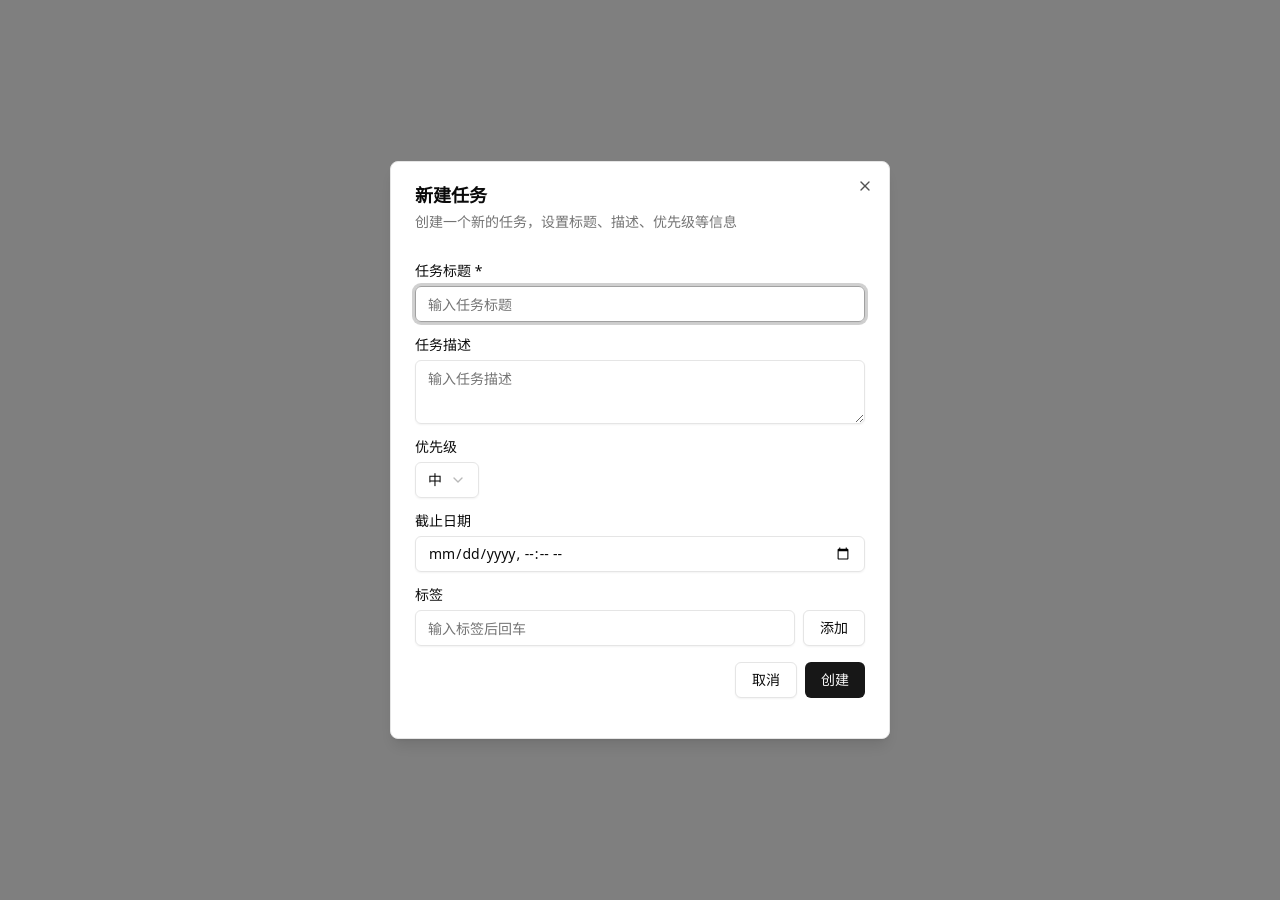
TaskCreateDialog › 应该验证必填字段
The width and height of the screenshot is (1280, 900).
不填写标题，直接提交
Click the button "创建": (835, 680) [805,662,865,698]
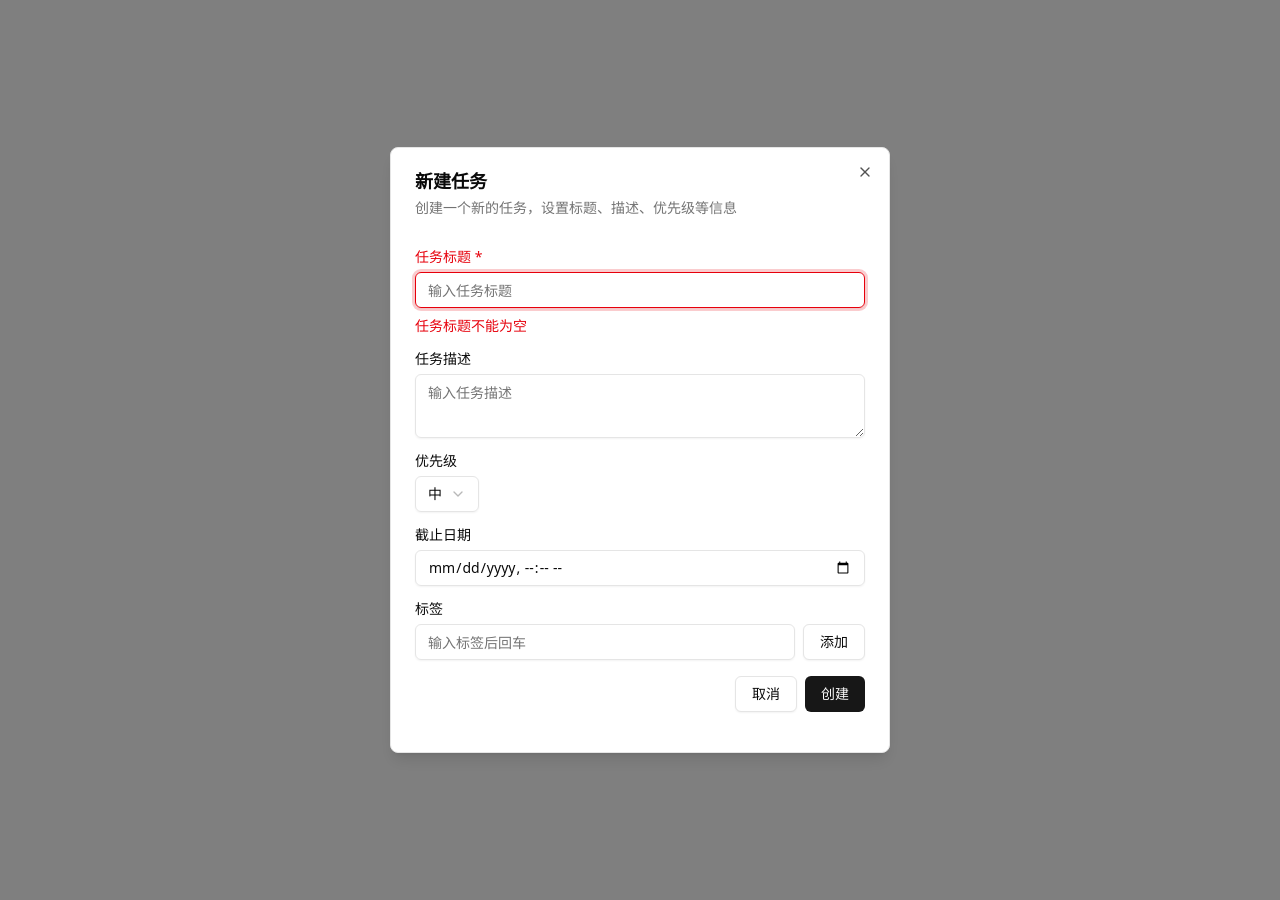
Now the text "任务标题不能为空" is shown, box [415,316,527,335]
